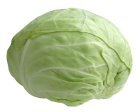cabbage: (6, 7, 134, 109)
